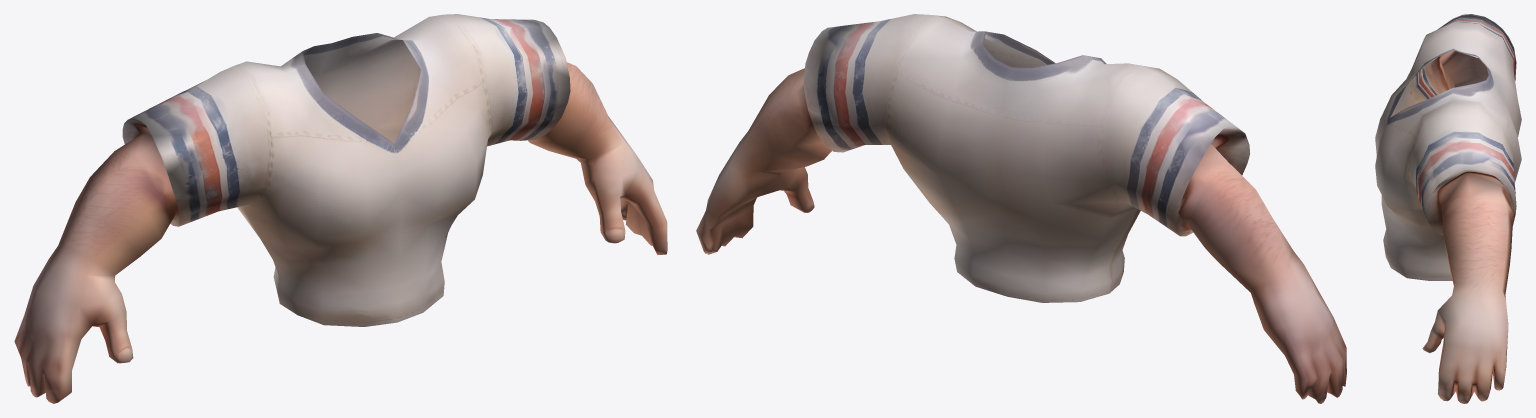
The model's file is crowd_torso_m6_grey_vneck.fbx.
3 renders of one model, left to right at view 1: azimuth 30°, elevation 25°; view 2: azimuth 150°, elevation 25°; view 3: azimuth 270°, elevation 25°, orthographic. The views are drawn at different scales.
Parts seen in each view (by area): view 1: tripo_node_56c3332c; view 2: tripo_node_56c3332c; view 3: tripo_node_56c3332c.
Part boxes in pixels (box(x1,y1,x2,y2)): tripo_node_56c3332c: box(14, 14, 667, 403); tripo_node_56c3332c: box(696, 14, 1346, 403); tripo_node_56c3332c: box(1375, 14, 1521, 403).
Size of the model in its own units: 0.9995 by 0.4194 by 0.2573.
1 material, 1 textured.
